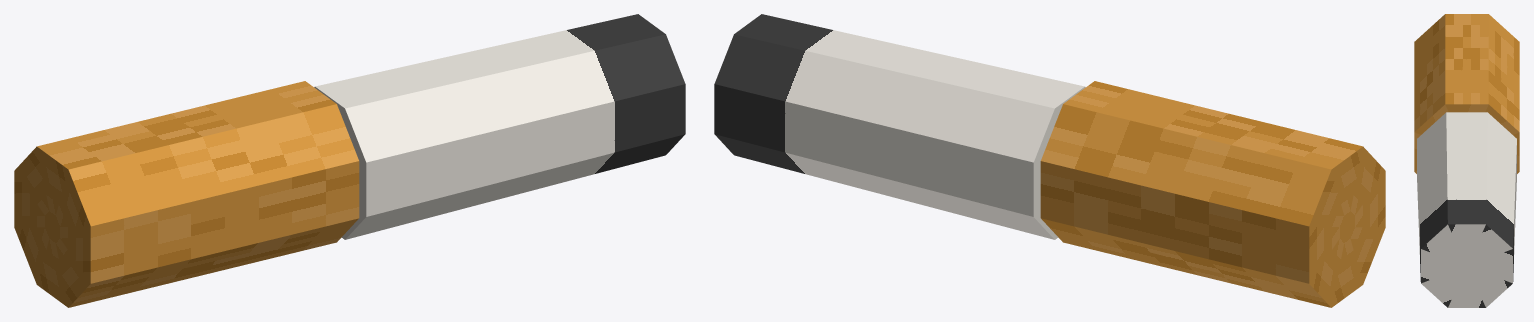
File: cig_butt.glb
3 views of the same model, side by side, from view 1: azimuth 30°, elevation 25°; view 2: azimuth 150°, elevation 25°; view 3: azimuth 270°, elevation 25° (orthographic). The views are drawn at different scales.
Visible parts, largest first — view 1: block_filter, block_paper; view 2: block_filter, block_paper; view 3: block_paper, block_filter.
Part boxes in pixels (left/top/right/bottom): block_filter: left=14, top=81, right=359, bottom=307; block_paper: left=314, top=14, right=685, bottom=239; block_filter: left=1040, top=81, right=1385, bottom=307; block_paper: left=714, top=14, right=1085, bottom=239; block_paper: left=1417, top=112, right=1516, bottom=307; block_filter: left=1414, top=14, right=1519, bottom=173.
Size of the model in its own units: 0.0335 by 0.00741 by 0.00739.
Materials: 1 (1 with a texture image).
